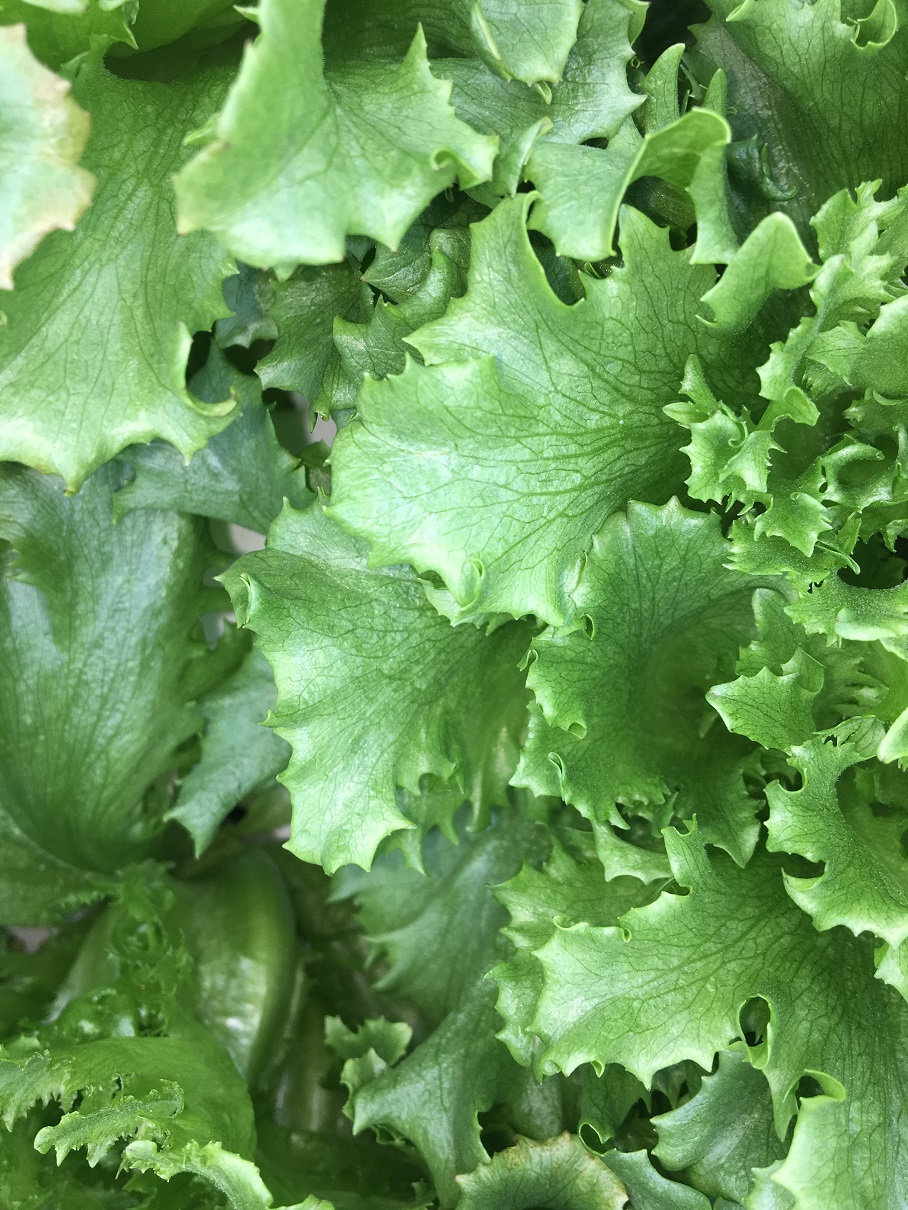tipburn: (1, 16, 104, 296), (491, 1125, 569, 1170), (201, 374, 261, 424), (201, 120, 254, 170), (572, 1139, 615, 1178), (54, 473, 96, 512), (161, 215, 194, 249)
